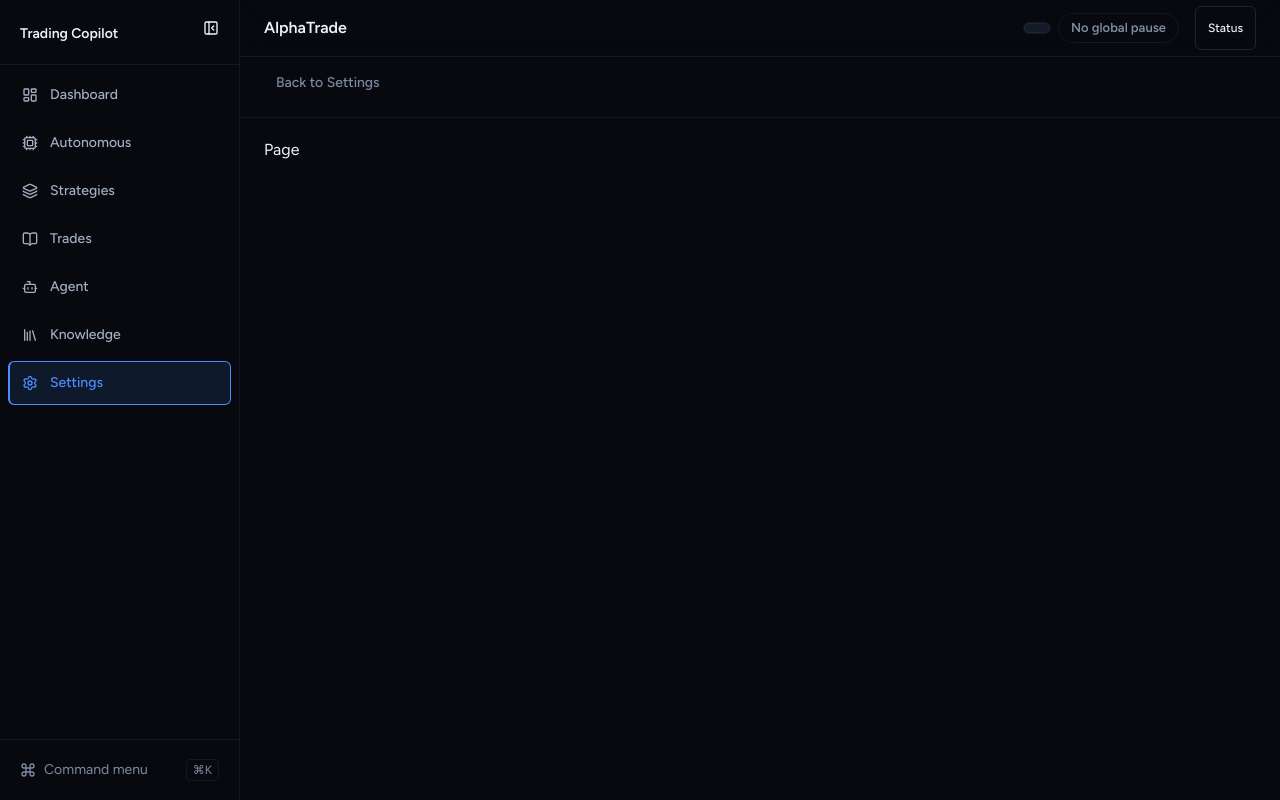
AT-040 Phase B AppShell › opens the command menu from the phone status menu
Click the button "Status" at (1226, 28), box [1195,6,1256,50]
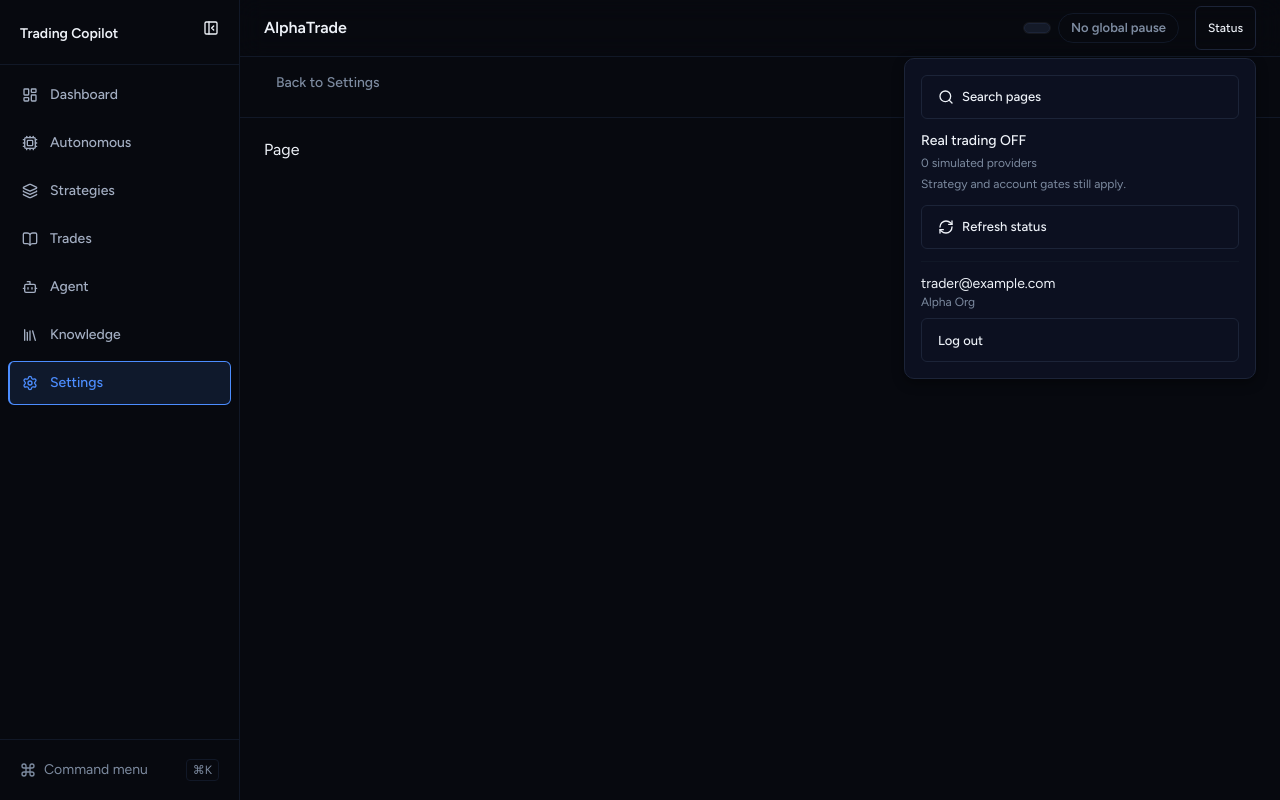
Click the button with aria-label "Search pages and destinations" at (1002, 97), box [921,75,1239,119]
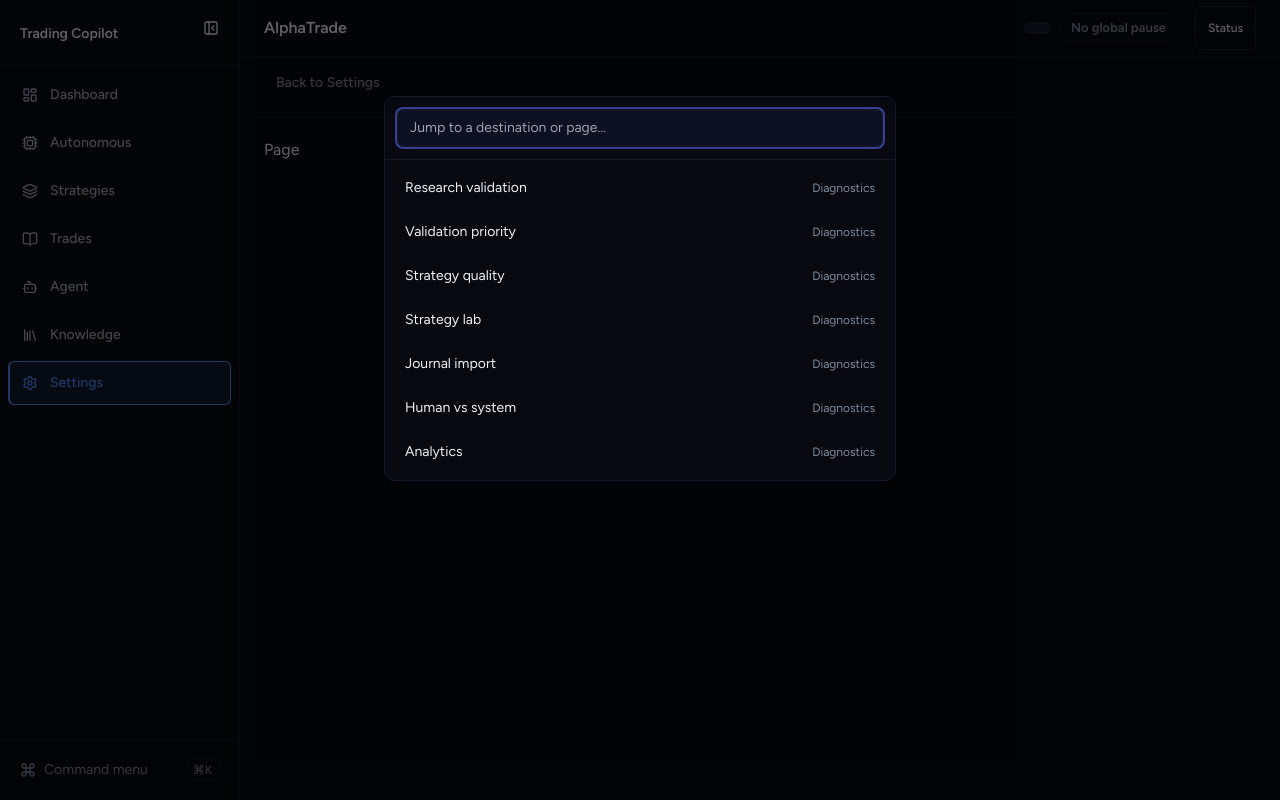
expect the element with test id "command-menu" is shown: met
expect the option "Strategy lab Diagnostics" is shown: met, box [405,311,875,328]
